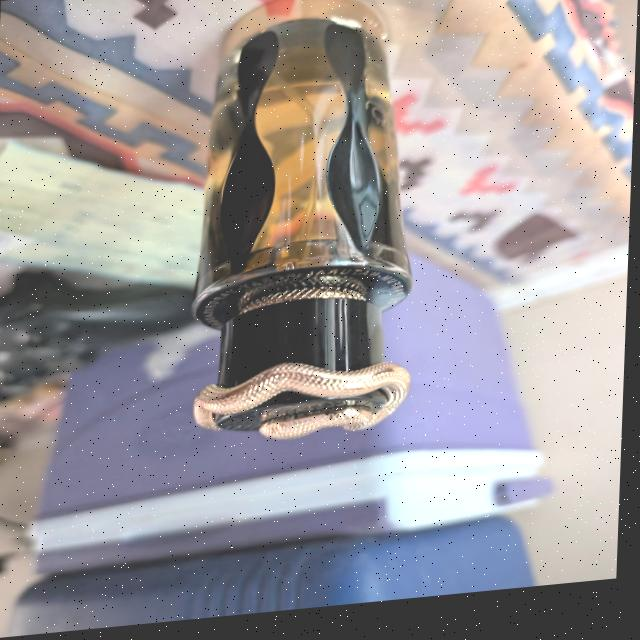Teriaq-Intense: (185, 0, 429, 455)
